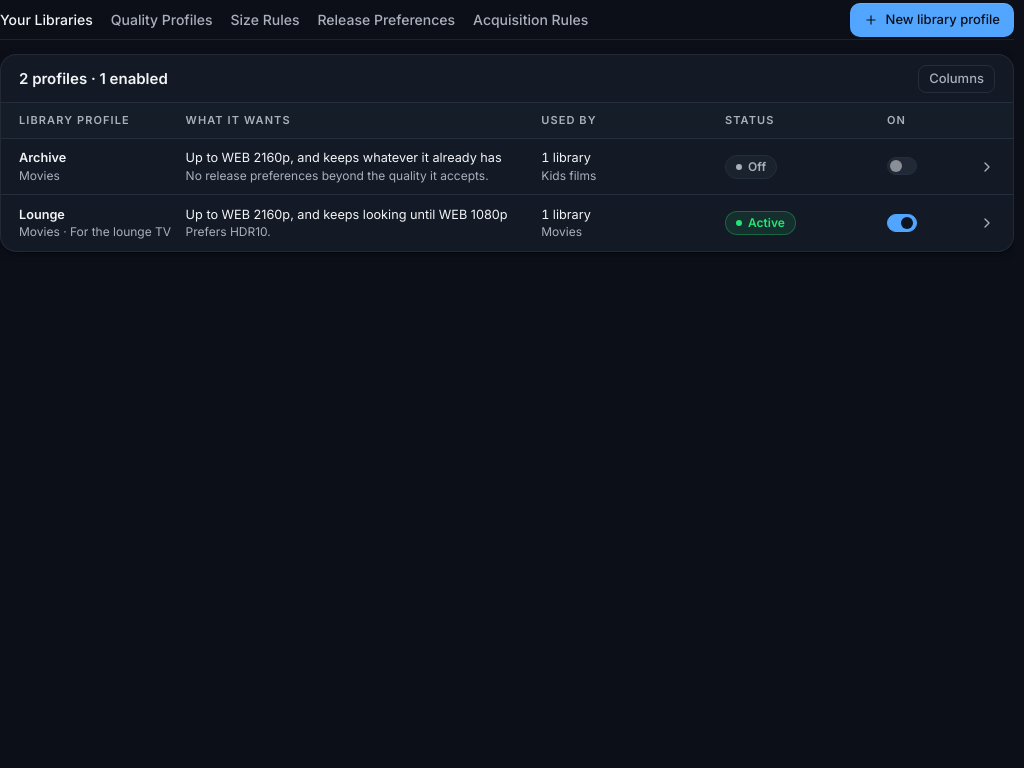
Test: Library Profile drawer › edits with PUT and detaches a library that was switched off
What coordinates should you click on to do the following:
click the text "Lounge"
I would click on:
 (42, 214)
Its box is left=19, top=207, right=65, bottom=222.
(page scrolled)
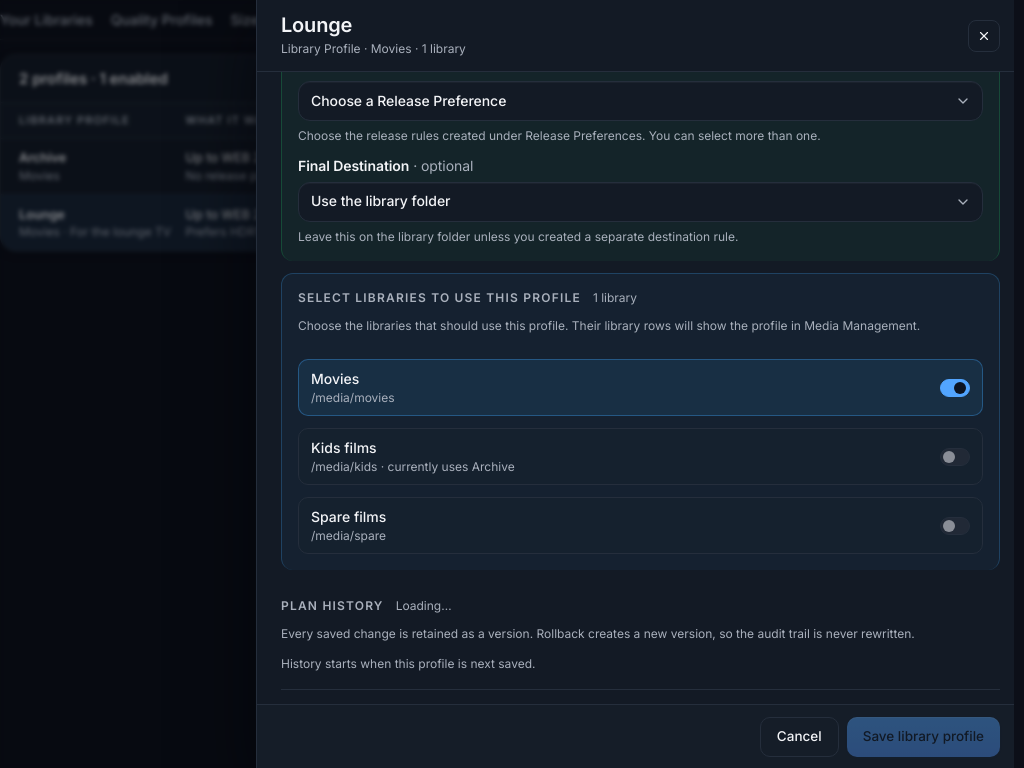
What coordinates should you click on to do the following:
click the switch named "Movies" in the row of "/media/movies"
I would click on:
 (955, 388)
Its box is left=940, top=378, right=970, bottom=396.
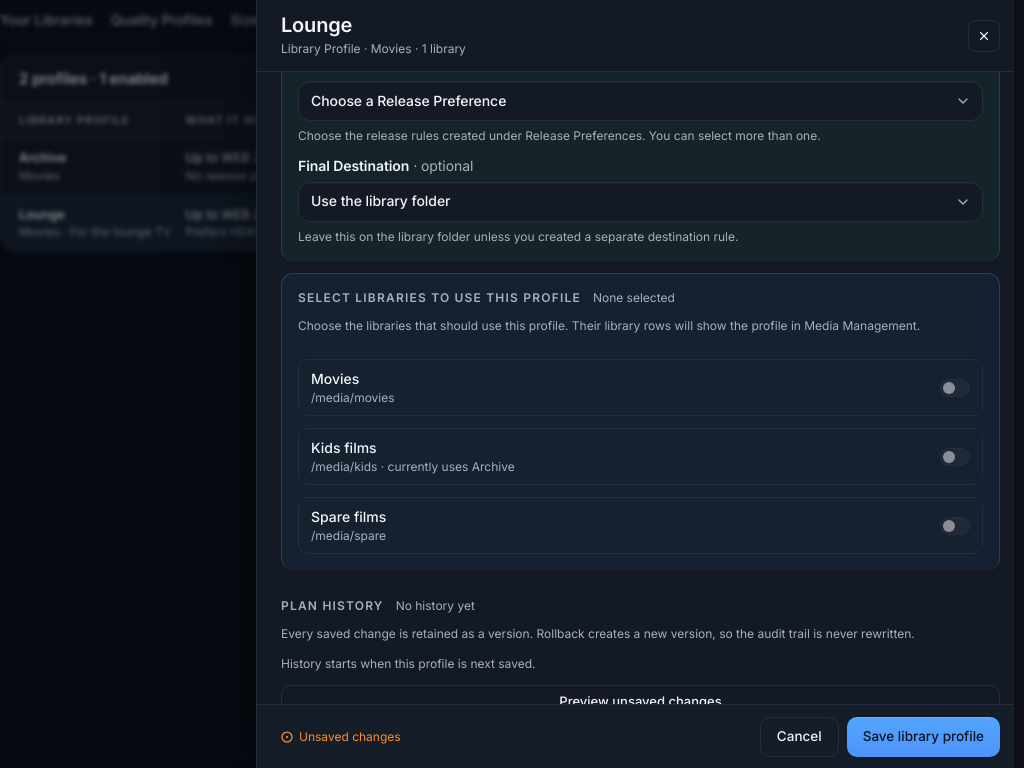
What coordinates should you click on to do the following:
click the button "Save library profile"
I would click on:
 (923, 736)
Its box is left=847, top=716, right=1000, bottom=756.
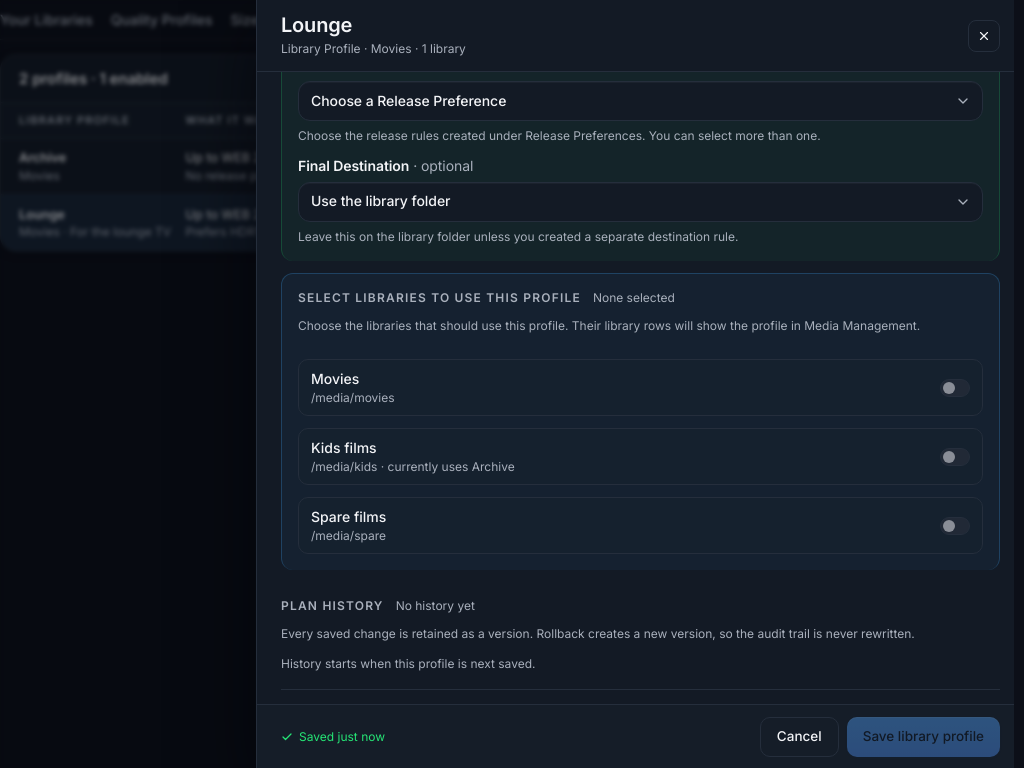
Check: the text "Saved just now" is shown, box left=299, top=728, right=385, bottom=746
